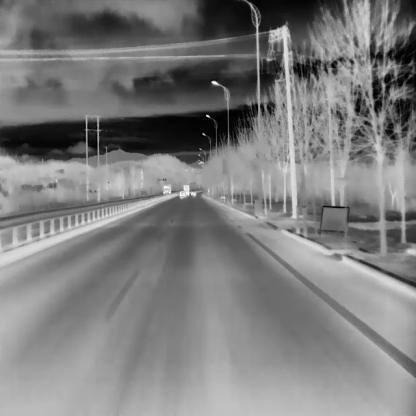car: (179, 188, 185, 198), (191, 190, 196, 196)
truck: (162, 183, 171, 195), (183, 184, 189, 196)
